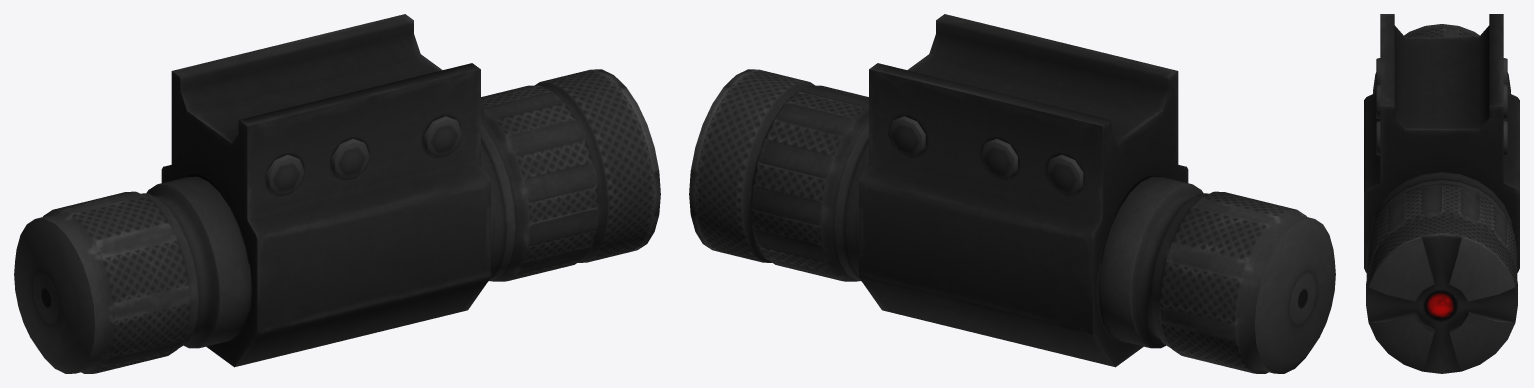
Rendered from Laser Sight.FBX.
3 views of the same model, side by side, from view 1: azimuth 30°, elevation 25°; view 2: azimuth 150°, elevation 25°; view 3: azimuth 270°, elevation 25° (orthographic). The views are drawn at different scales.
Visible parts, largest first — view 1: laser; view 2: laser; view 3: laser.
Part boxes in pixels (box(x1,y1,x2,y2)): laser: box(14, 14, 660, 373); laser: box(689, 14, 1335, 373); laser: box(1364, 14, 1519, 373).
Size of the model in its own units: 225 by 93.44 by 64.71.
